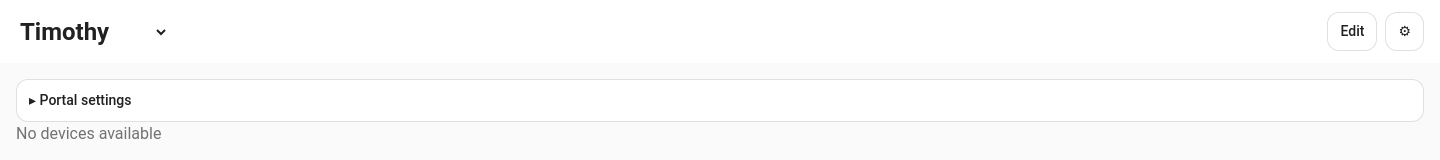
Test: App › live theme updates › re-themes the page when the owner switches to a different-themed portal
Select "Mary" in the dropdown named "portal" at [92, 32], box [16,16,169,46]
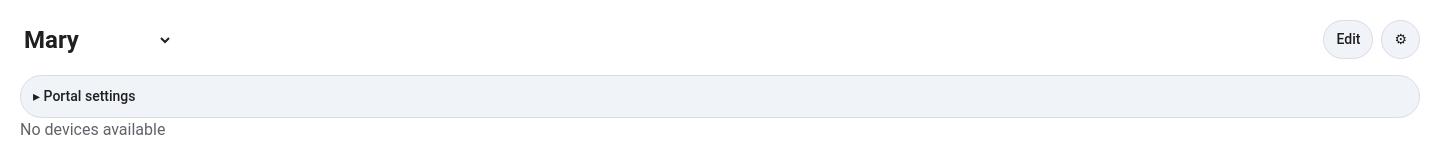
Expected: the element with test id "card-grid" is shown, [20,120,165,139]
Now the dropdown named "portal" shows "Mary", box [20,24,173,54]
